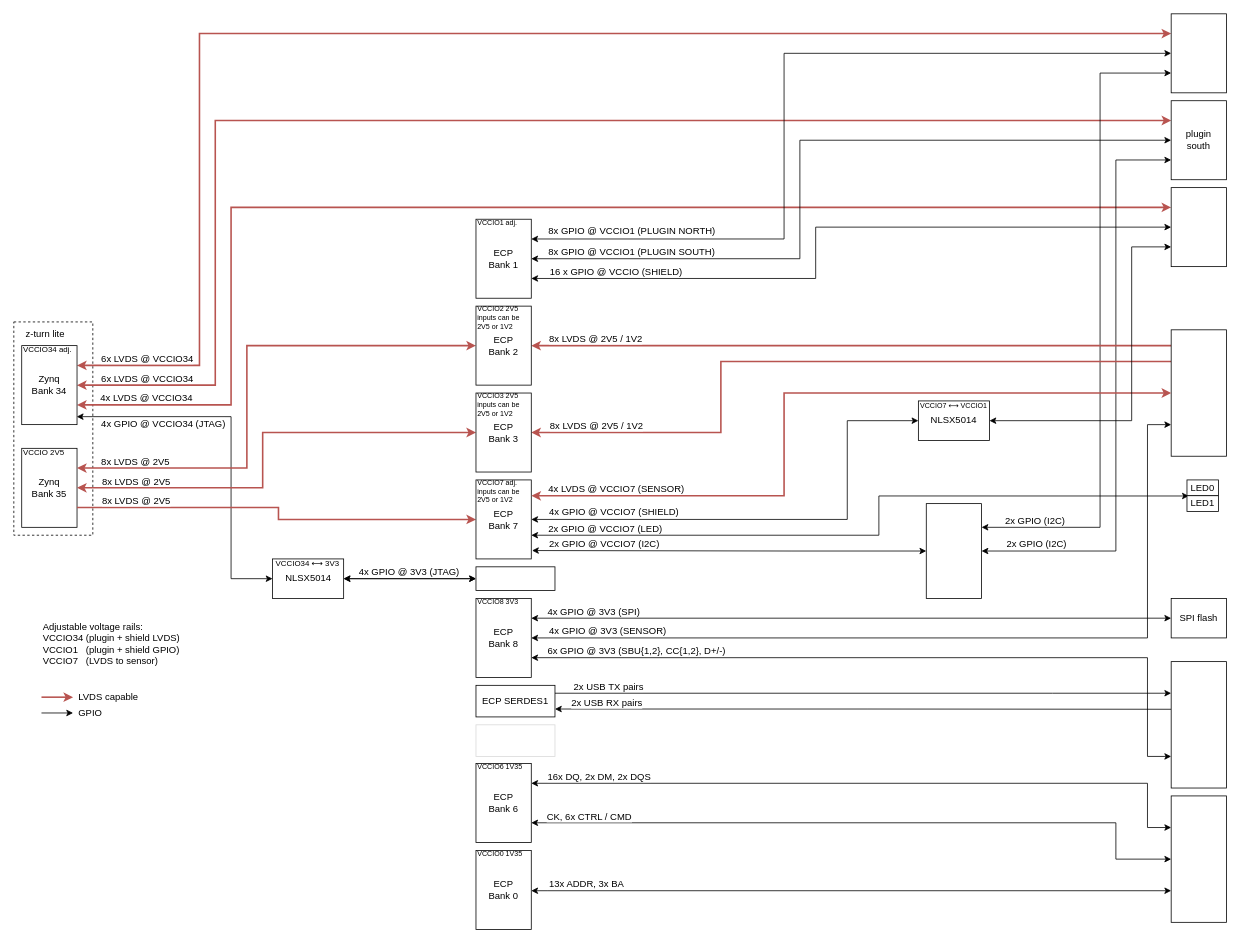
Image size: 1240x943. Some labels were removed from this diagram. The shapes that lost their labels are listed below. From the top down, each one's centre as x and y in pixels, then its label:
At (1198,53): "plugin north".
At (1198,227): "shield".
At (1198,392): "Sensor board".
At (953,550): "PCA9548".
At (515,578): "ECP JTAG".
At (515,740): "ECP SERDES2".
At (1198,724): "USB".
At (1198,858): "DDR3L".
